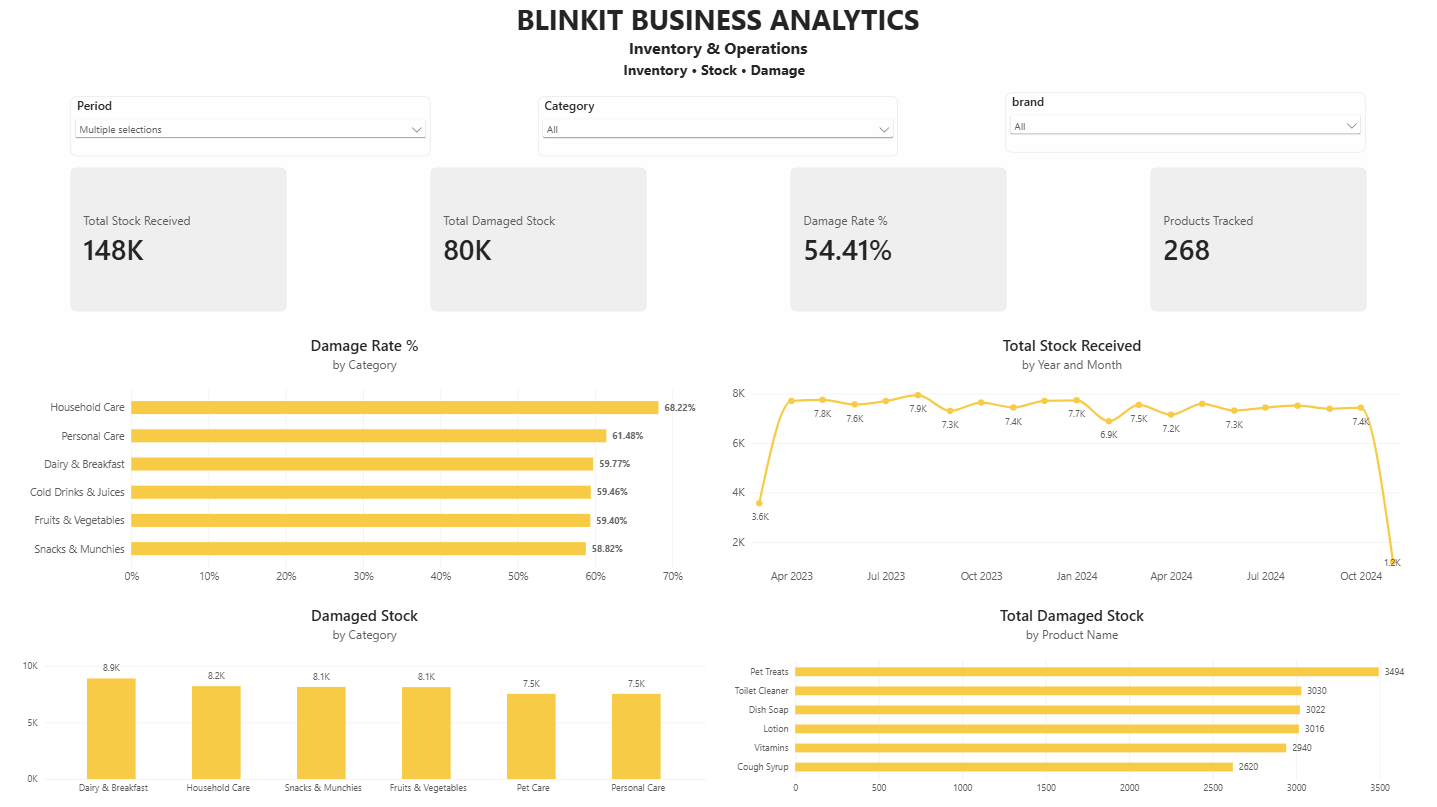

What the dashboard file says about the page in this screenshot:
{"tool":"powerbi","page":{"name":"Inventory and Operations","canvas":[1920,1080],"ordinal":2},"visuals":[{"type":"textbox","box":[0,0,1920,80],"z":0},{"type":"textbox","box":[0,48,1920,64],"z":1000},{"type":"textbox","box":[0,80,1920,64],"z":2000},{"type":"slicer","fields":{"Values":["blinkit_products.Category"]},"box":[720,128,480,80],"z":3000},{"type":"slicer","fields":{"Values":["Date_Table.Month Year"]},"box":[96,128,480,80],"z":4000},{"type":"slicer","fields":{"Values":["blinkit_products.brand"]},"box":[1344,122.7,480,80],"z":5000},{"type":"cardVisual","fields":{"Data":["blinkit_inventory.Total Stock Received"]},"box":[96,224,288,192],"z":6000},{"type":"cardVisual","fields":{"Data":["blinkit_orders.Total Damaged Stock"]},"box":[576,224,288,192],"z":7000},{"type":"cardVisual","fields":{"Data":["blinkit_orders.Damage Rate %"]},"box":[1056,224,288,192],"z":8000},{"type":"cardVisual","fields":{"Data":["blinkit_inventory.Products Tracked"]},"box":[1536,224,288,192],"z":9000},{"type":"barChart","fields":{"Category":["blinkit_products.Category"],"Y":["blinkit_orders.Damage Rate %"]},"box":[16,432,944,368],"z":10000},{"type":"columnChart","fields":{"Category":["blinkit_products.Category"],"Y":["blinkit_orders.Total Damaged Stock"]},"box":[16,792,944,288],"z":11000},{"type":"clusteredBarChart","title":"Total Damaged Stock ","fields":{"Category":["blinkit_products.product_name"],"Y":["blinkit_orders.Total Damaged Stock"]},"box":[960,792,944,288],"z":12000},{"type":"lineChart","fields":{"Category":["blinkit_inventory.date.Variation.Date Hierarchy.Year","blinkit_inventory.date.Variation.Date Hierarchy.Month"],"Y":["blinkit_inventory.Total Stock Received"]},"box":[960,432,944,368],"z":13000}]}

Visuals, with their boxes in screenshot pixels (x1, y1, x2, y2), scaled from the page's 1920x1080 canvas onto the 1437x807 screenshot:
textbox: detection(0, 0, 1436, 60)
textbox: detection(0, 36, 1436, 84)
textbox: detection(0, 60, 1436, 108)
slicer - blinkit_products.Category: detection(539, 96, 898, 155)
slicer - Date_Table.Month Year: detection(72, 96, 431, 155)
slicer - blinkit_products.brand: detection(1006, 92, 1365, 151)
cardVisual - blinkit_inventory.Total Stock Received: detection(72, 167, 287, 311)
cardVisual - blinkit_orders.Total Damaged Stock: detection(431, 167, 647, 311)
cardVisual - blinkit_orders.Damage Rate %: detection(790, 167, 1006, 311)
cardVisual - blinkit_inventory.Products Tracked: detection(1150, 167, 1365, 311)
barChart - blinkit_products.Category x blinkit_orders.Damage Rate %: detection(12, 323, 718, 598)
columnChart - blinkit_products.Category x blinkit_orders.Total Damaged Stock: detection(12, 592, 718, 806)
"Total Damaged Stock " clusteredBarChart: detection(718, 592, 1425, 806)
lineChart - blinkit_inventory.date.Variation.Date Hierarchy.Year x blinkit_inventory.date.Variation.Date Hierarchy.Month: detection(718, 323, 1425, 598)
